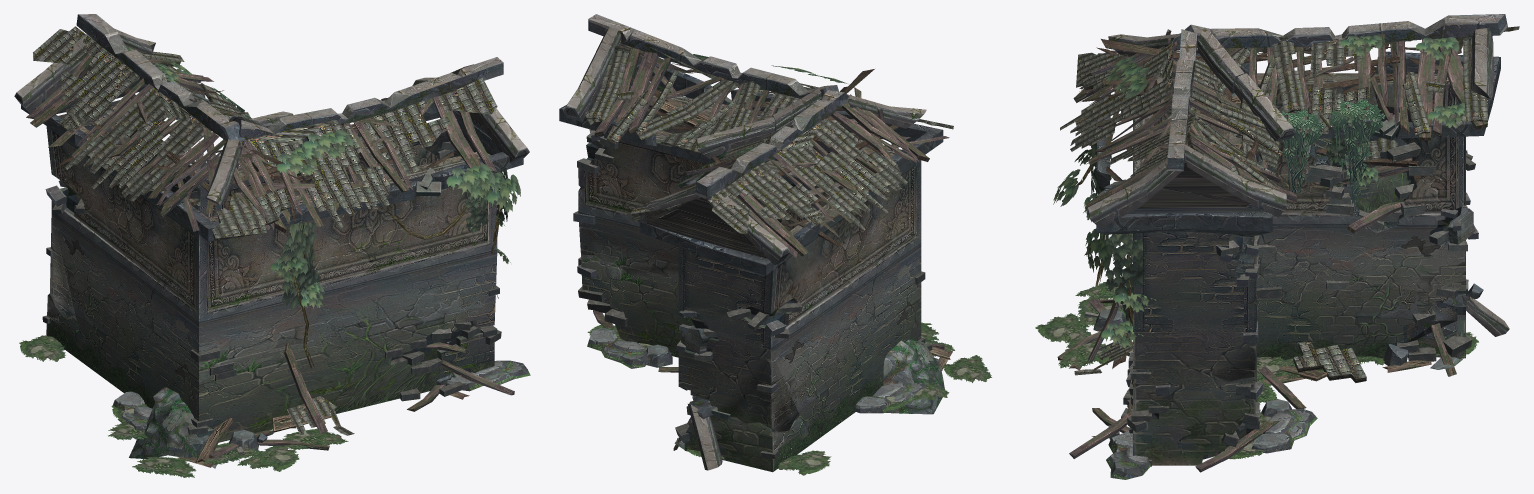
The model's file is Ruins_1.FBX.
3 views of the same model, side by side, from view 1: azimuth 30°, elevation 25°; view 2: azimuth 150°, elevation 25°; view 3: azimuth 270°, elevation 25° (orthographic). The views are drawn at different scales.
Visible parts, largest first — view 1: Ruins_1_A, Ruins_1_C, Ruins_1_B; view 2: Ruins_1_A, Ruins_1_B, Ruins_1_C; view 3: Ruins_1_A, Ruins_1_C, Ruins_1_B.
Boxes of the visible parts, x1=… form: Ruins_1_A: x1=14, y1=14, x2=529, y2=467; Ruins_1_C: x1=19, y1=46, x2=520, y2=477; Ruins_1_B: x1=113, y1=341, x2=530, y2=468; Ruins_1_A: x1=559, y1=14, x2=953, y2=472; Ruins_1_B: x1=587, y1=327, x2=944, y2=449; Ruins_1_C: x1=587, y1=54, x2=991, y2=475; Ruins_1_A: x1=1057, y1=14, x2=1519, y2=472; Ruins_1_C: x1=1035, y1=35, x2=1478, y2=459; Ruins_1_B: x1=1093, y1=283, x2=1483, y2=479.
Size of the model in its own units: 645 by 624 by 483.
